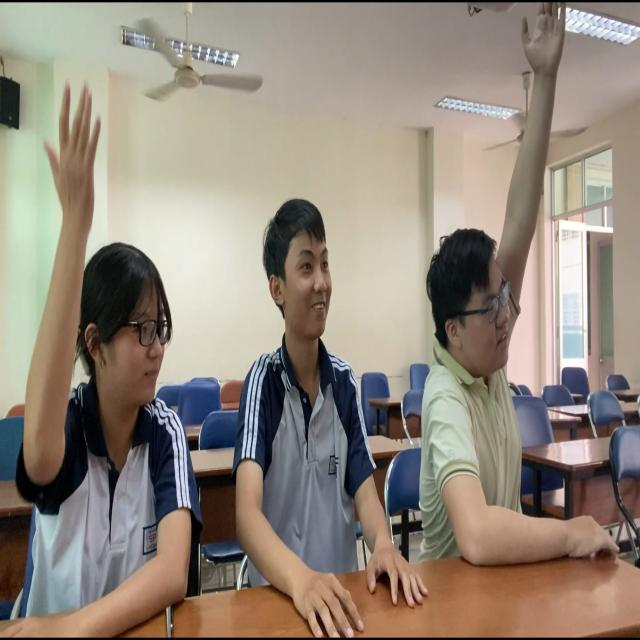raise_hand: (422, 4, 619, 569), (19, 78, 196, 640)
